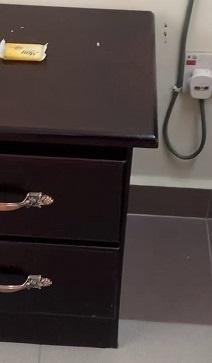cabinet_door: (0, 155, 121, 233), (0, 241, 117, 312)
handle: (0, 189, 56, 217), (0, 272, 57, 298)
